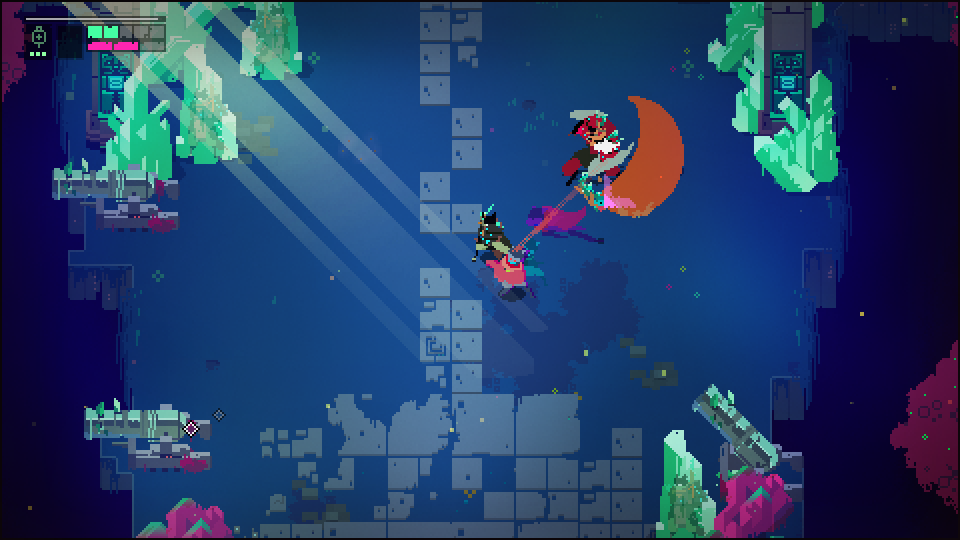hanged_man: (566, 109, 646, 216)
player: (495, 252, 528, 289)
